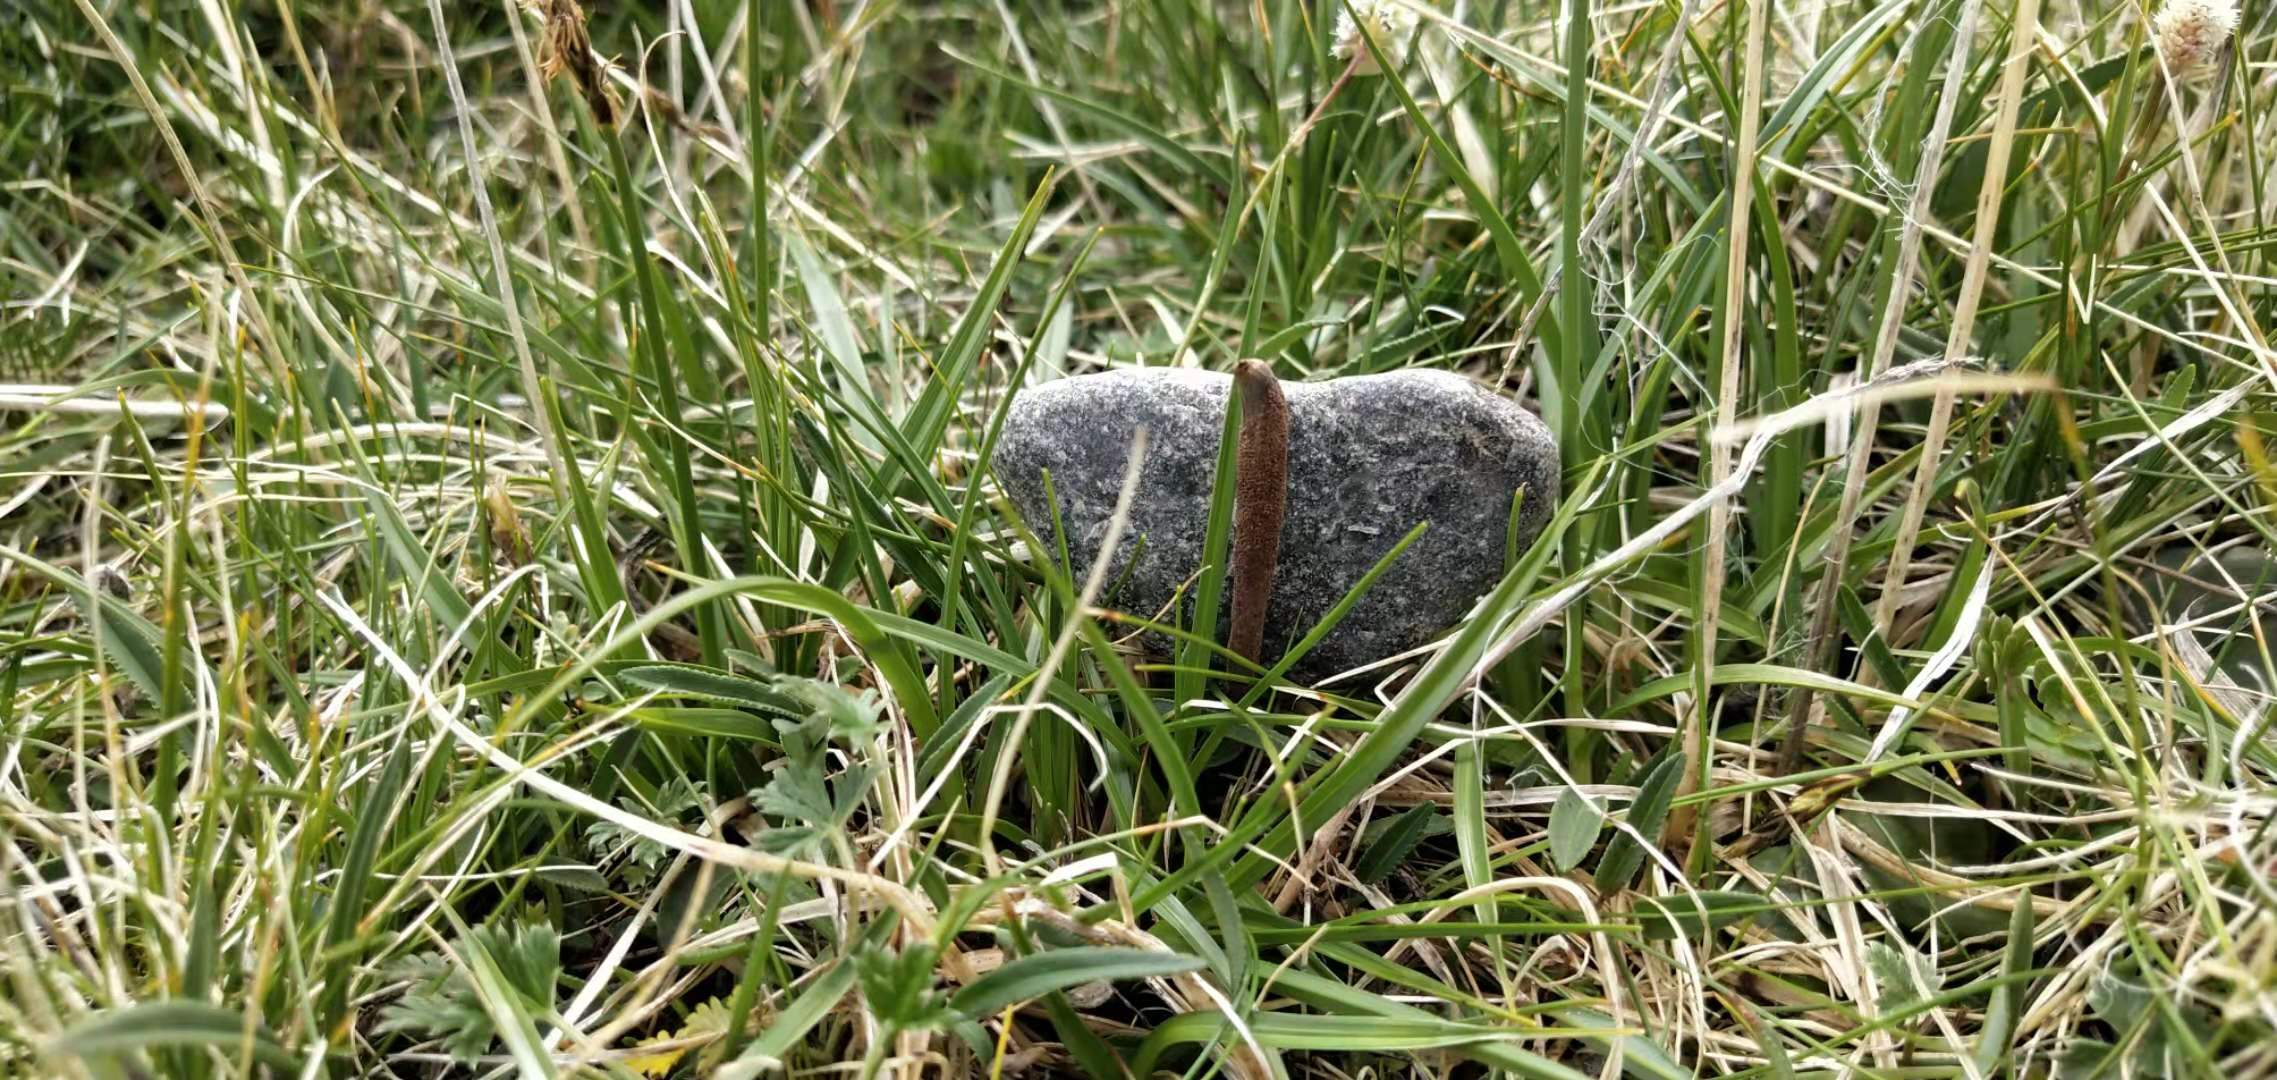cpf: (1226, 356, 1290, 730)
